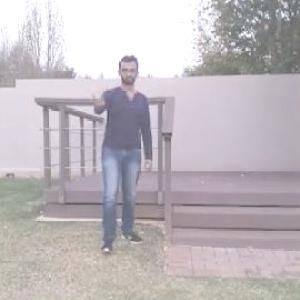takeoff-hand: (82, 84, 110, 116)
